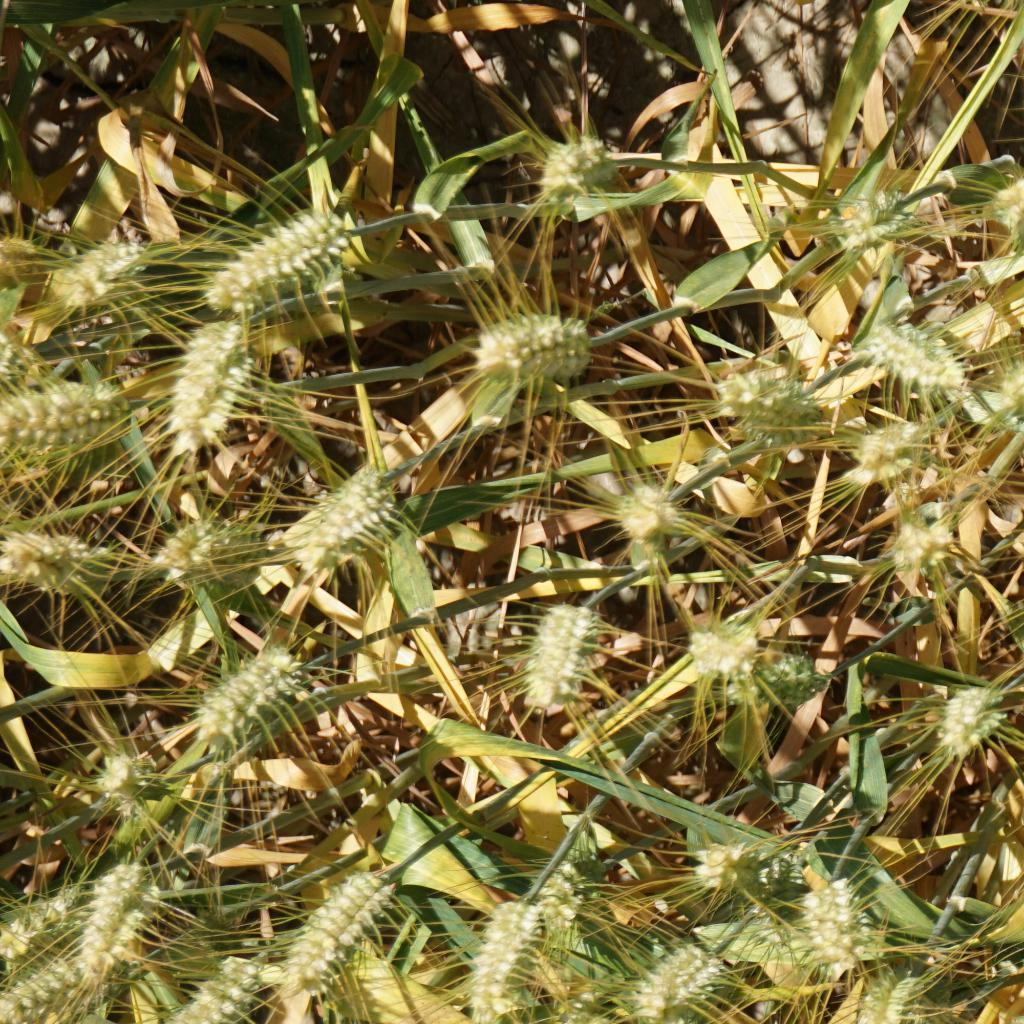0-0: (291, 856, 406, 981), (182, 651, 312, 741), (207, 210, 357, 285), (517, 600, 610, 718), (291, 475, 406, 564), (169, 317, 244, 438), (473, 887, 541, 1020), (466, 311, 590, 380), (3, 527, 124, 594), (72, 862, 150, 965), (0, 397, 131, 456), (722, 649, 830, 719), (724, 360, 820, 433), (694, 823, 800, 889), (858, 325, 964, 390), (173, 953, 267, 1022), (163, 513, 264, 573), (0, 884, 83, 957), (802, 875, 864, 966), (47, 238, 141, 295), (0, 960, 92, 1017), (532, 128, 613, 192), (636, 942, 713, 1007), (849, 410, 934, 466), (538, 854, 585, 949), (929, 689, 999, 750), (842, 183, 906, 249), (847, 966, 917, 1024), (616, 493, 694, 540), (894, 510, 955, 566), (89, 752, 148, 808), (690, 617, 754, 667), (545, 976, 605, 1021), (748, 906, 800, 946), (982, 182, 1024, 227), (994, 359, 1024, 401)
